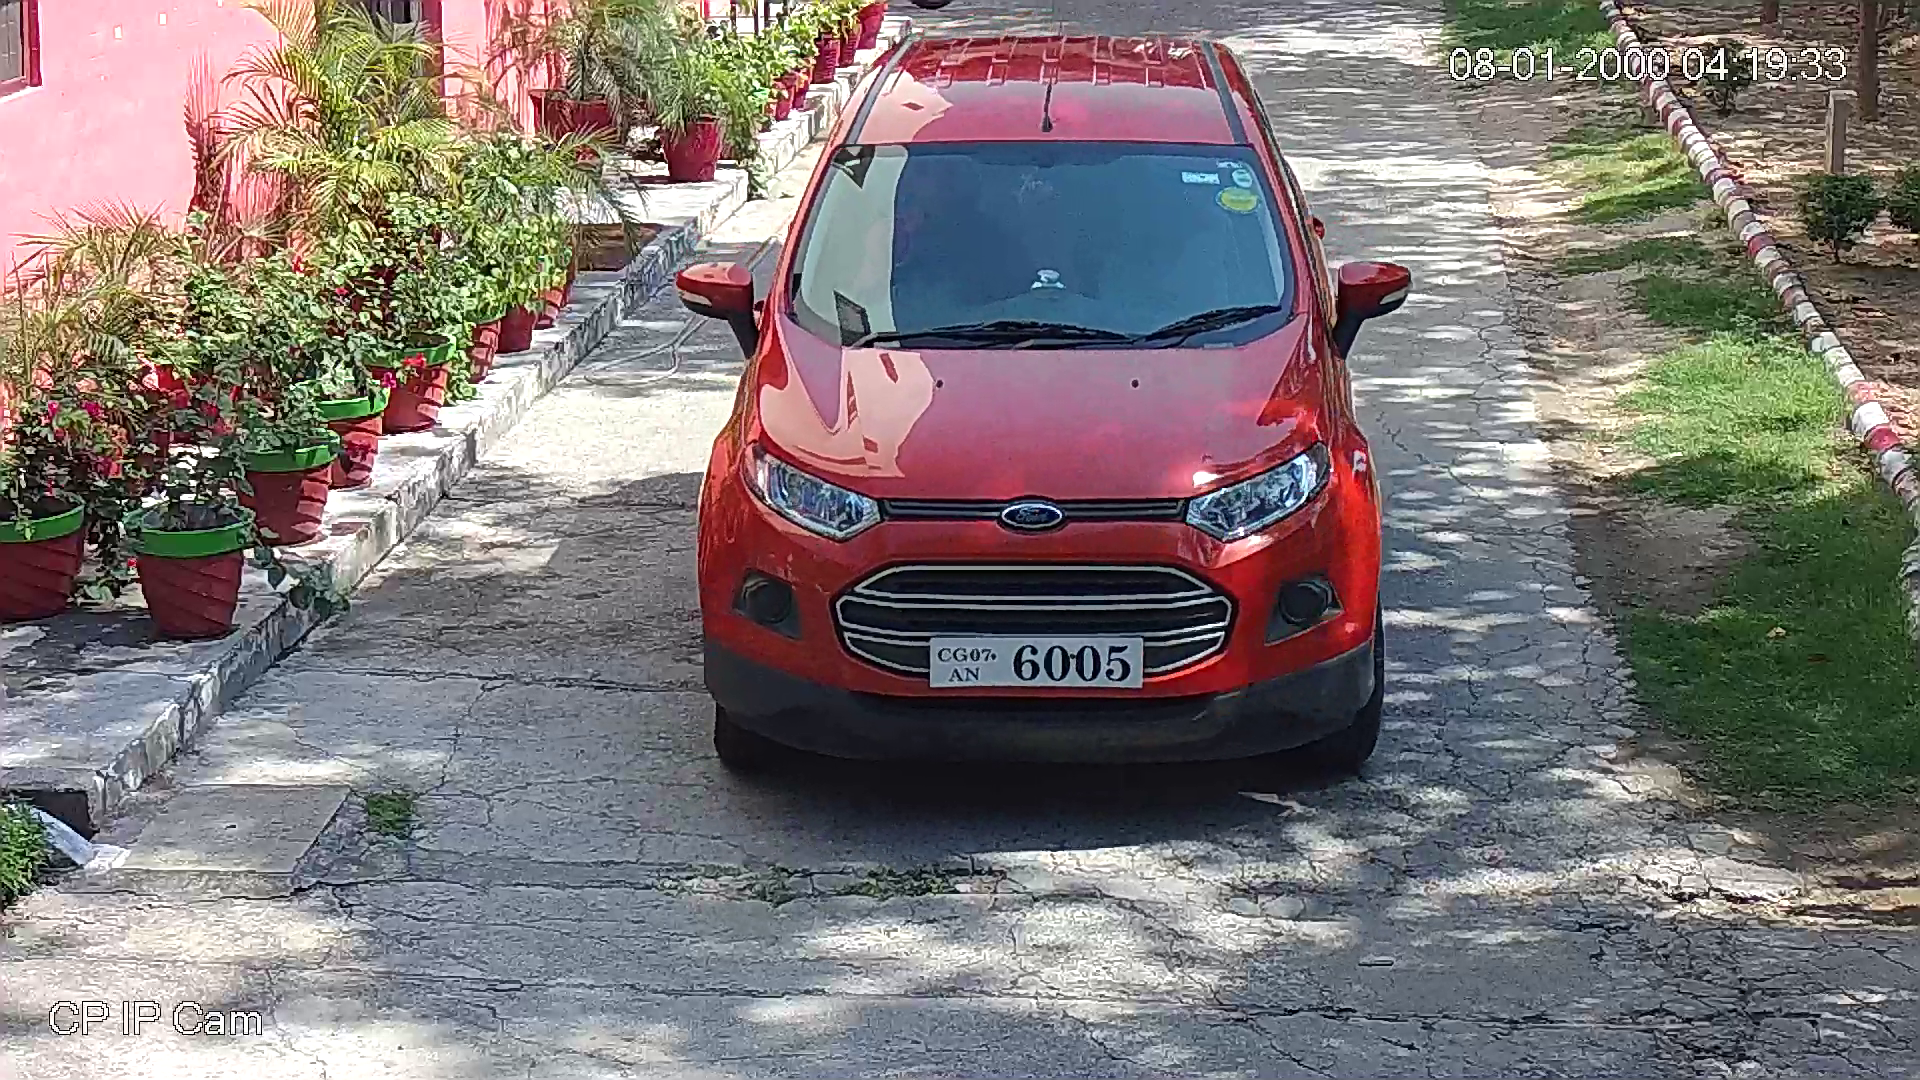plate: (926, 630, 1145, 690)
